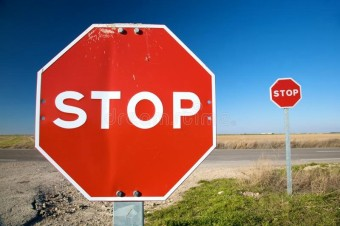SS: (42, 24, 217, 201), (272, 77, 301, 107)
